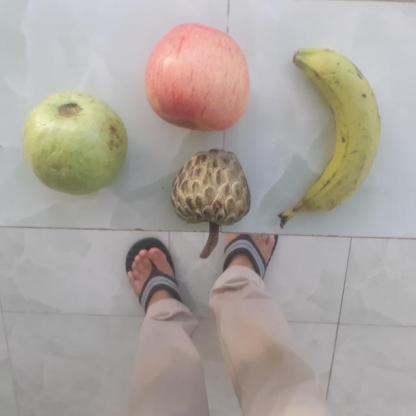annona: (167, 146, 250, 226)
apple: (140, 20, 255, 132)
banana: (282, 49, 380, 218)
guava: (17, 92, 127, 191)
